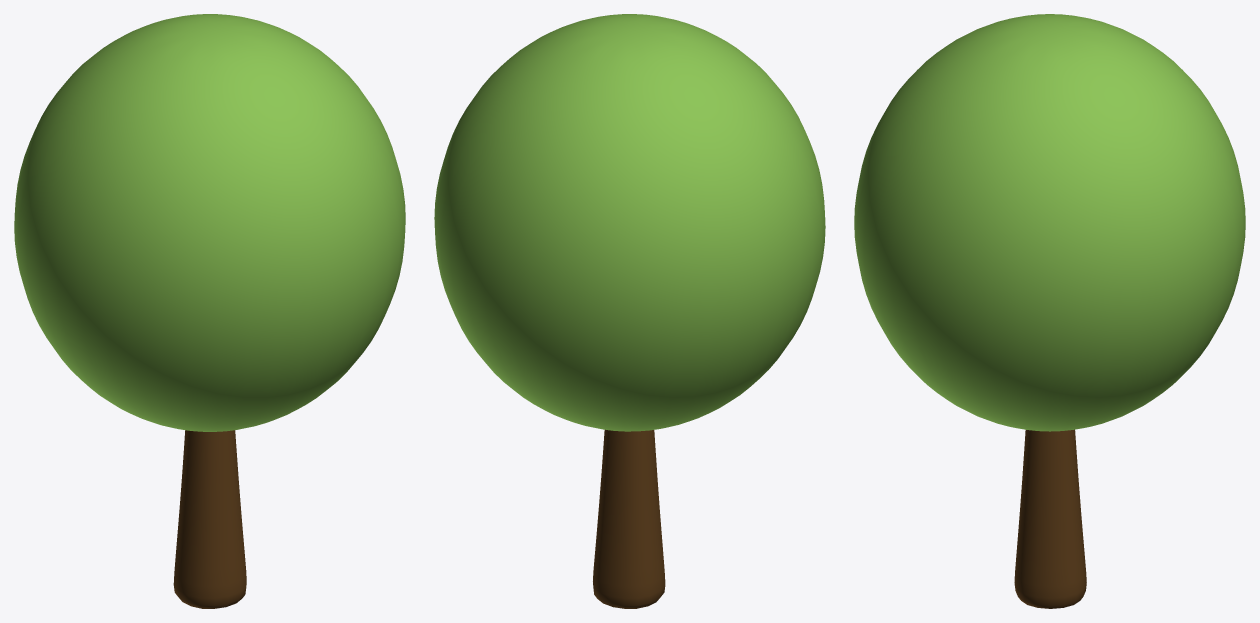
The model's file is treeLP3.glb.
3 renders of one model, left to right at view 1: azimuth 30°, elevation 25°; view 2: azimuth 150°, elevation 25°; view 3: azimuth 270°, elevation 25°, orthographic.
Visible parts, largest first — view 1: Sphere.002, Cube.002; view 2: Sphere.002, Cube.002; view 3: Sphere.002, Cube.002.
Boxes of the visible parts, x1,y1,x2,y2 form: Sphere.002: (14,14,405,431); Cube.002: (173,430,246,608); Sphere.002: (434,14,825,431); Cube.002: (593,429,665,608); Sphere.002: (854,14,1245,431); Cube.002: (1014,429,1086,608).
Bounding box in the file's own units: 3.93 × 6.3 × 3.93.
